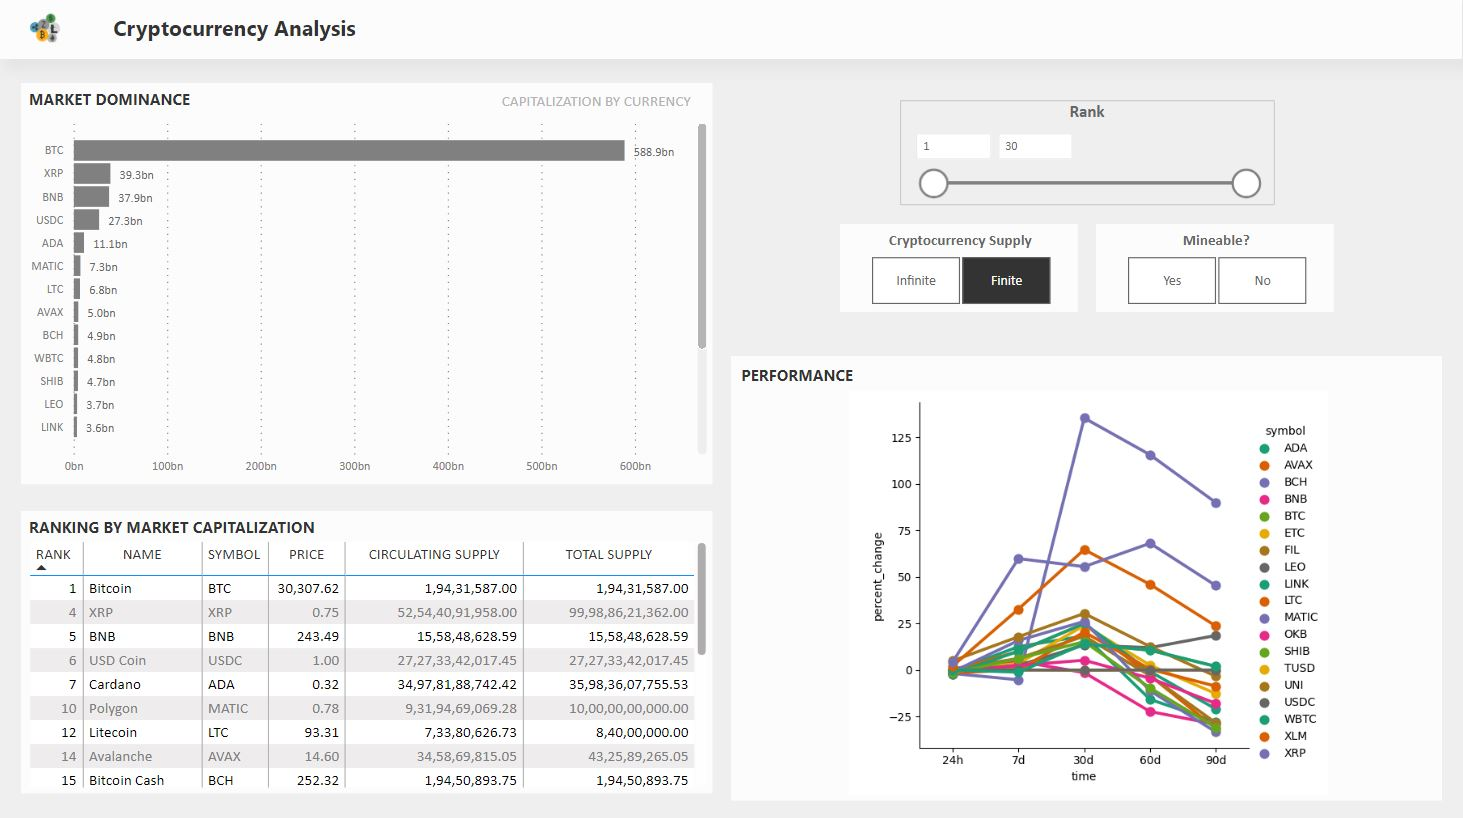

The page's visual inventory and layout, read from the dashboard file:
{"tool":"powerbi","page":{"name":"Crypto Analysis","canvas":[1280,720],"ordinal":0},"visuals":[{"type":"shape","box":[0,0,1279.7,56.3],"z":0},{"type":"image","box":[19.1,11.3,42.5,34.7],"z":1000},{"type":"slicer","title":"Rank","fields":{"Values":["Crpyto_API_Data_Pull.cmc_rank"]},"box":[788,92,328,92],"z":2000},{"type":"barChart","title":"MARKET DOMINANCE","fields":{"Y":["Sum(Crpyto_API_Data_Pull.quote.USD.market_cap)"],"Category":["Crpyto_API_Data_Pull.symbol"]},"box":[19.2,76.7,604.8,350.8],"z":3000},{"type":"tableEx","title":"RANKING BY MARKET CAPITALIZATION","fields":{"Values":["Crpyto_API_Data_Pull.cmc_rank","Crpyto_API_Data_Pull.name","Crpyto_API_Data_Pull.symbol","Crpyto_API_Data_Pull.quote.USD.price","Crpyto_API_Data_Pull.circulating_supply","Crpyto_API_Data_Pull.total_supply"]},"box":[19.2,451.3,604.8,246.7],"z":4000},{"type":"slicer","title":"Cryptocurrency Supply","fields":{"Values":["Crpyto_API_Data_Pull.infinite_supply"]},"box":[735.5,200.1,208.3,76.7],"z":5000},{"type":"slicer","title":"Mineable?","fields":{"Values":["Crpyto_API_Data_Pull.mineable"]},"box":[959.3,200.1,208.3,76.7],"z":6000},{"type":"pythonVisual","title":"PERFORMANCE","fields":{"Values":["Crpyto_API_Data_Pull.symbol","Sum(Crpyto_API_Data_Pull.quote.USD.percent_change_24h)","Sum(Crpyto_API_Data_Pull.quote.USD.percent_change_7d)","Sum(Crpyto_API_Data_Pull.quote.USD.percent_change_30d)","Sum(Crpyto_API_Data_Pull.quote.USD.percent_change_60d)","Sum(Crpyto_API_Data_Pull.quote.USD.percent_change_90d)"]},"box":[640.5,316.1,622.2,389.2],"z":7000},{"type":"textbox","box":[434.9,77.7,189.1,28.3],"z":8000}]}

Visuals, with their boxes in screenshot pixels (x1, y1, x2, y2), scaled from the page's 1280x720 canvas onto the 1463x818 screenshot:
shape: <box>0,0,1462,64</box>
image: <box>22,13,70,52</box>
"Rank" slicer: <box>901,105,1276,209</box>
"MARKET DOMINANCE" barChart: <box>22,87,713,486</box>
"RANKING BY MARKET CAPITALIZATION" tableEx: <box>22,513,713,793</box>
"Cryptocurrency Supply" slicer: <box>841,227,1079,314</box>
"Mineable?" slicer: <box>1096,227,1335,314</box>
"PERFORMANCE" pythonVisual: <box>732,359,1443,801</box>
textbox: <box>497,88,713,120</box>
